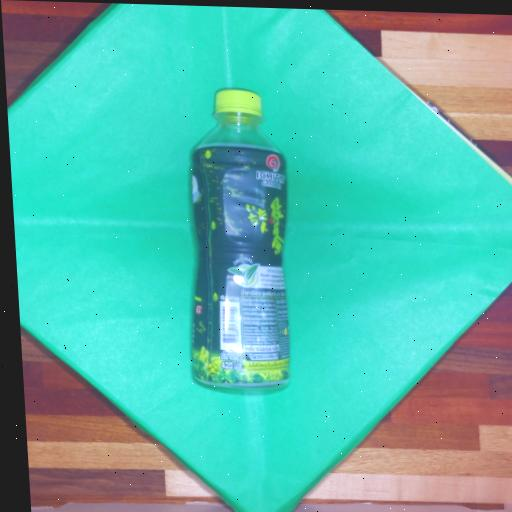bottle: (192, 90, 288, 387)
